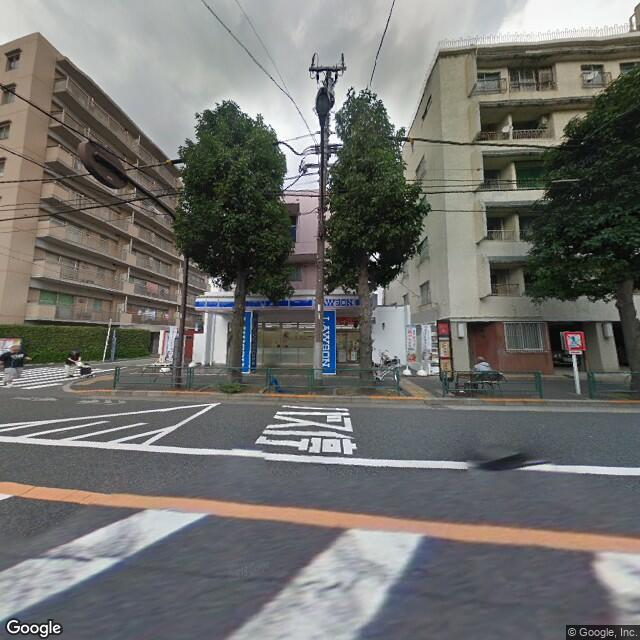lawson: (193, 290, 365, 312), (316, 314, 333, 374)
